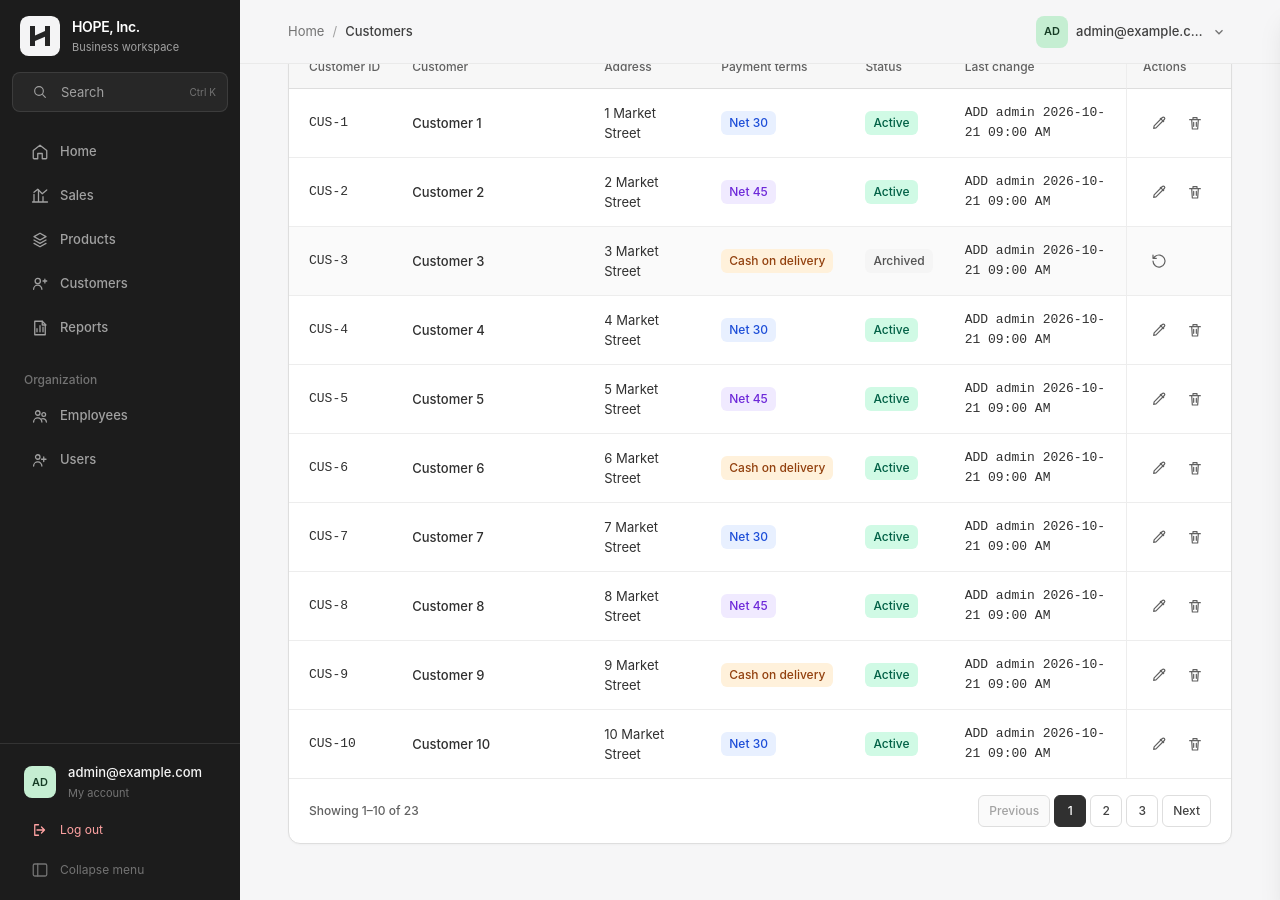
loads customer pages, shows skeletons, and applies server-side payment term filters
(page scrolled)
Expected: the text "Customer 1" is shown, x1=396 y1=89 x2=588 y2=158
Expected: the text "Showing 1–10 of 23" is shown, x1=309 y1=801 x2=419 y2=821
Click the button "Next".
click(1187, 811)  # box x1=1162 y1=795 x2=1211 y2=827
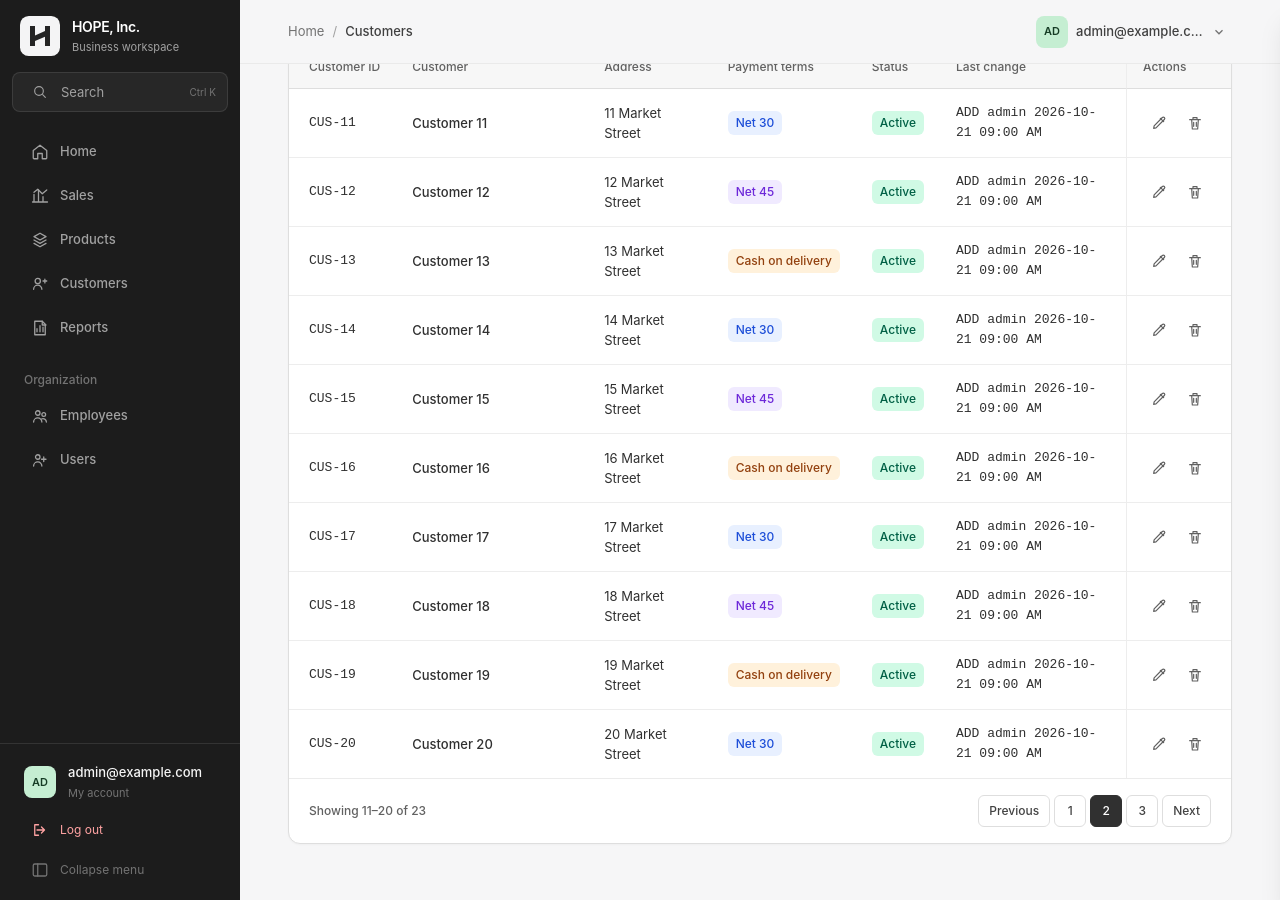
Result: the text "Customer 11" is shown at x1=396 y1=89 x2=588 y2=158
Result: the text "Showing 11–20 of 23" is shown at x1=309 y1=801 x2=426 y2=821
Click the button named "Page 3".
click(1142, 811)  # box x1=1126 y1=795 x2=1158 y2=827
(page scrolled)
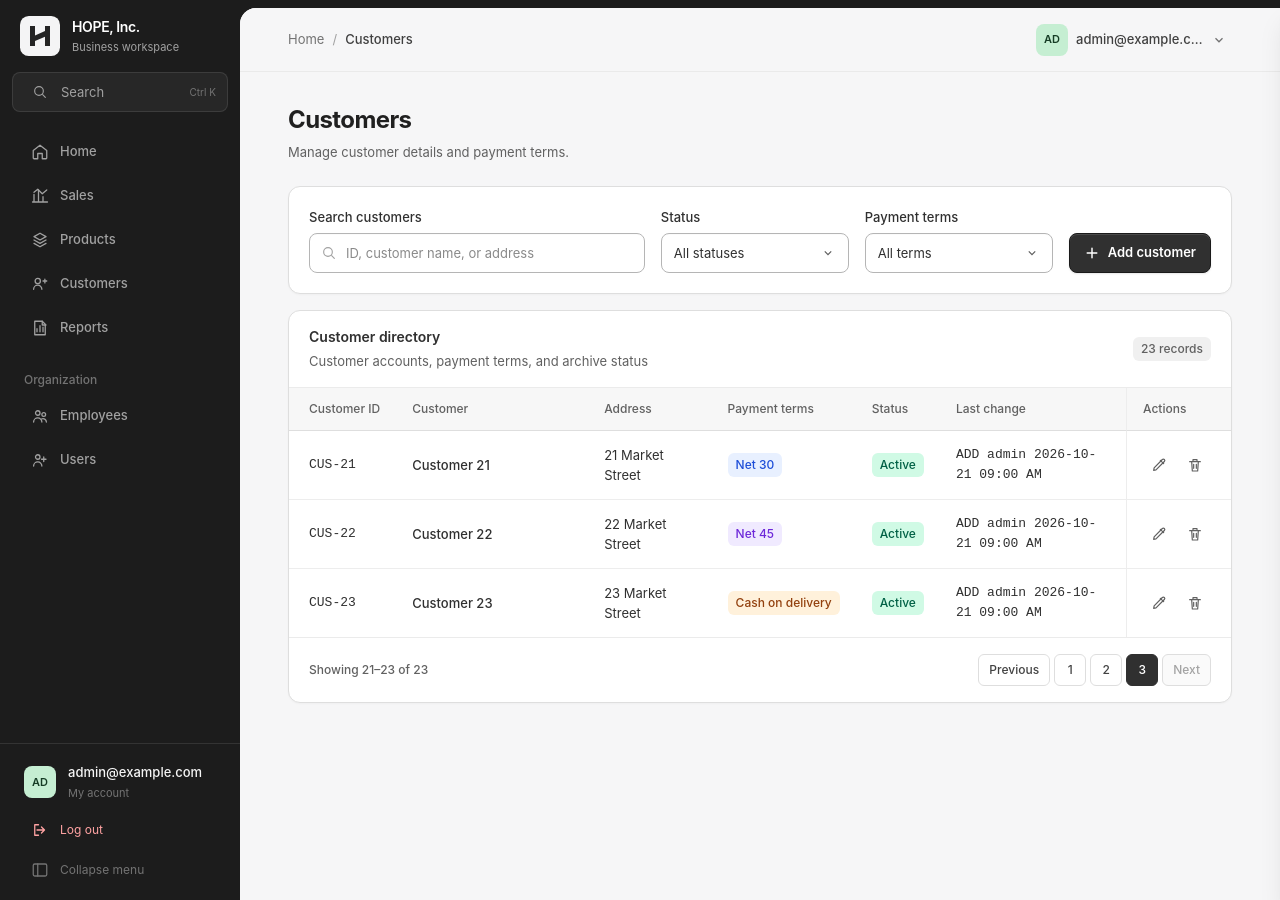
Result: the text "Customer 21" is shown at x1=396 y1=431 x2=588 y2=500
Result: the text "Showing 21–23 of 23" is shown at x1=309 y1=660 x2=428 y2=680
Result: the button "Next" is disabled at x1=1162 y1=654 x2=1211 y2=686
Click the button "Previous".
click(1014, 670)  # box x1=978 y1=654 x2=1050 y2=686
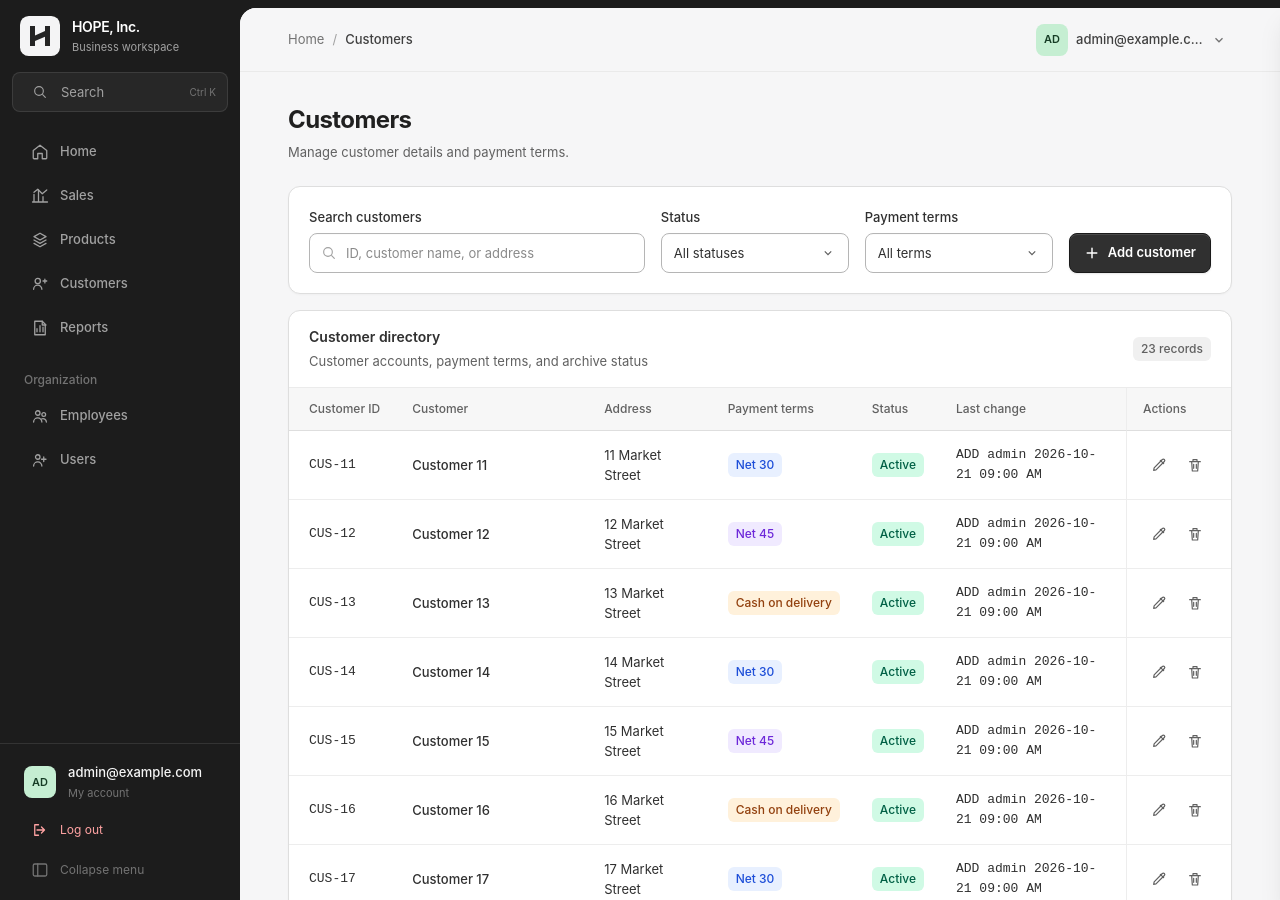
Result: the text "Customer 11" is shown at x1=396 y1=431 x2=588 y2=500
Select "Net 30" in the dropdown labelled "Payment terms" at coordinates (959, 253), box x1=865 y1=233 x2=1053 y2=273
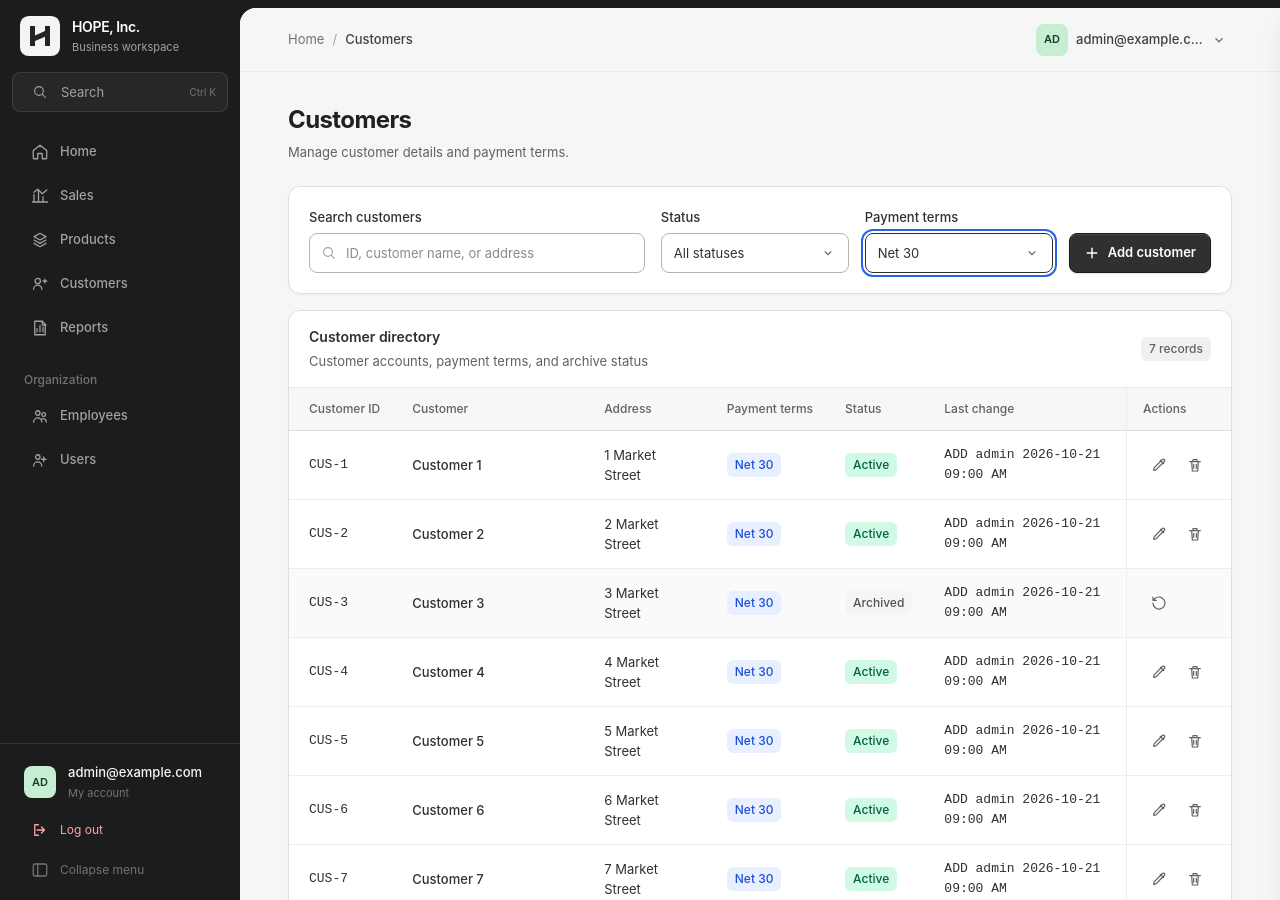
Select "Archived" in the dropdown labelled "Status" at coordinates (755, 253), box x1=661 y1=233 x2=849 y2=273
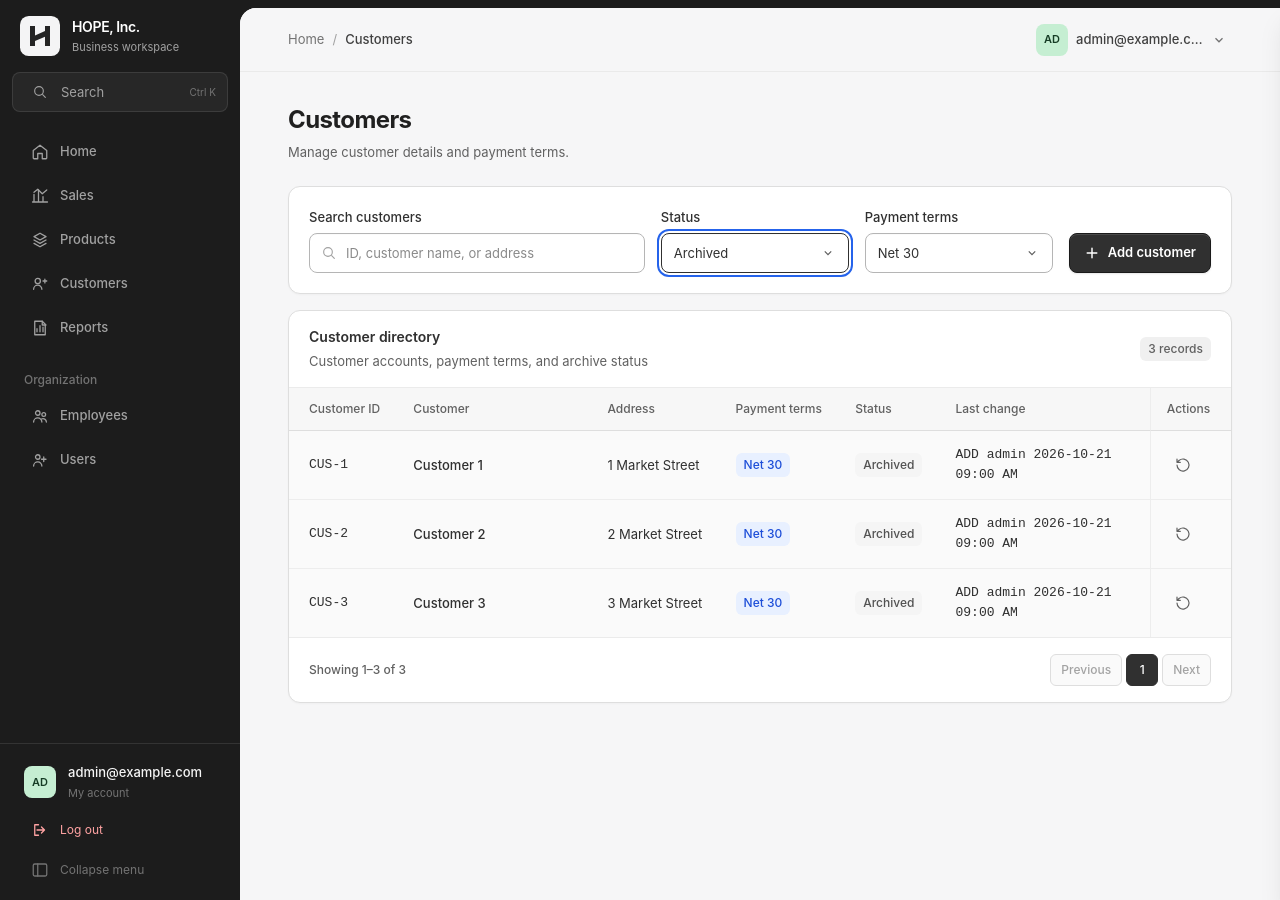
Result: the text "Showing 1–3 of 3" is shown at x1=309 y1=660 x2=406 y2=680
Result: the text "Archived" is shown 3 times at x1=855 y1=453 x2=922 y2=477; x1=855 y1=522 x2=922 y2=546; x1=855 y1=591 x2=922 y2=615
